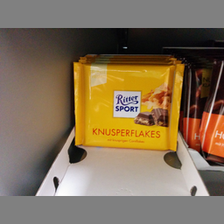chocolate: (73, 61, 184, 152)
